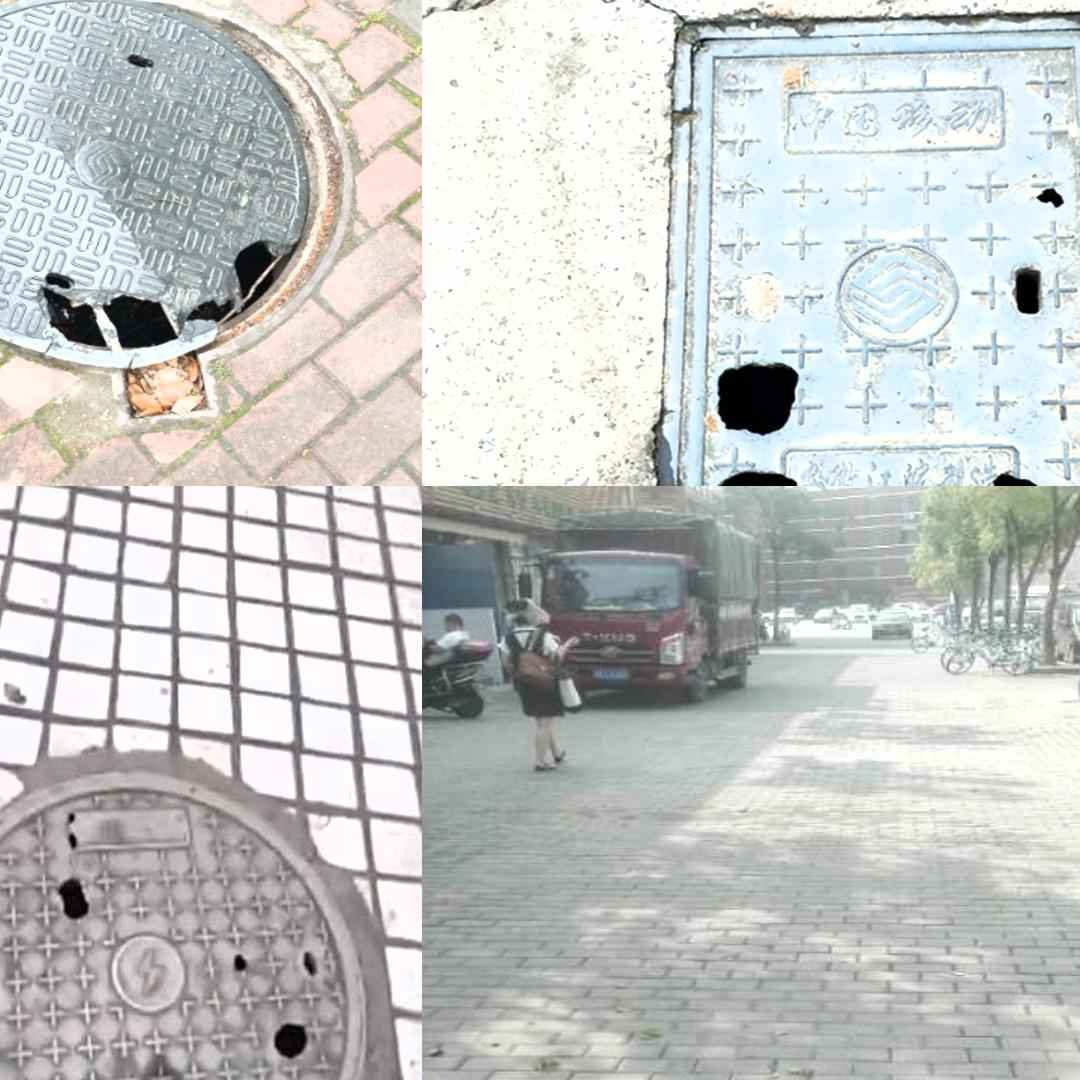broke: (657, 15, 1080, 484), (0, 0, 355, 420), (0, 781, 368, 1080)
